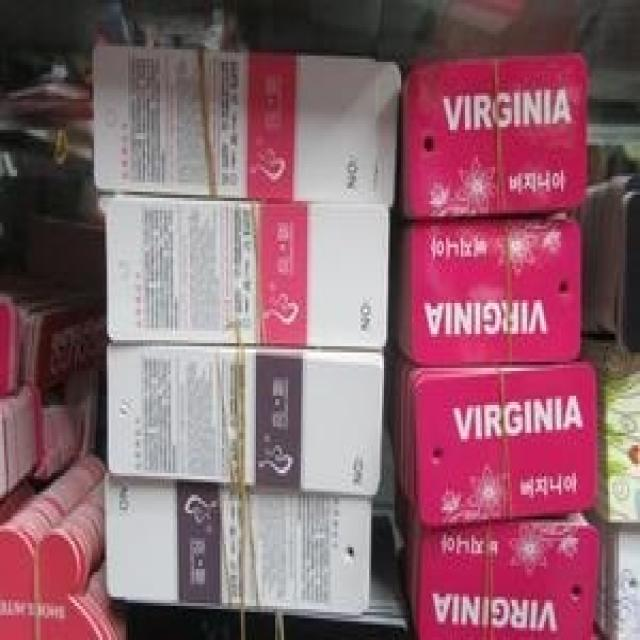box: (94, 46, 401, 204), (105, 195, 388, 349), (107, 343, 384, 498), (105, 473, 373, 618), (388, 343, 599, 526), (395, 53, 587, 220), (395, 485, 599, 640), (395, 210, 580, 365), (580, 337, 640, 526), (580, 507, 640, 640)
